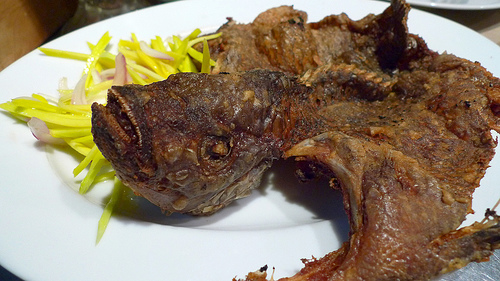fish: (187, 0, 499, 126), (88, 72, 324, 222), (284, 131, 498, 279)
